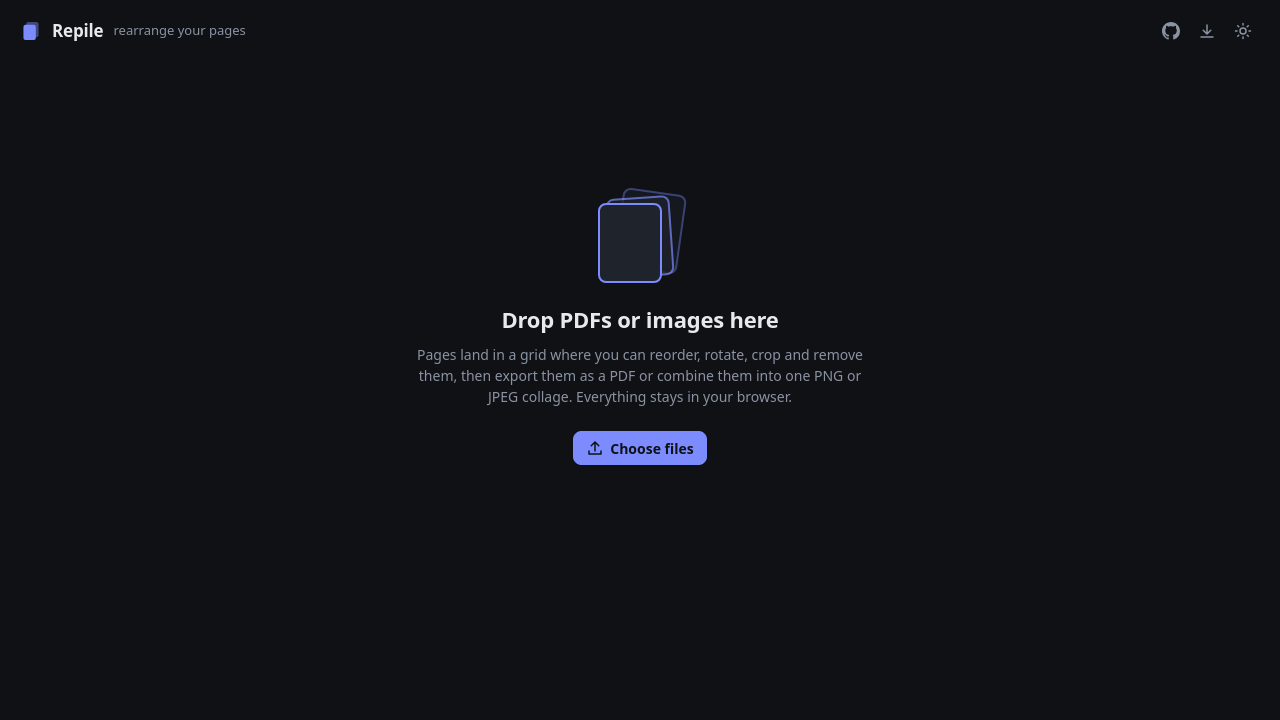
Test: theme › toggles to light mode and remembers the choice
Click the button named "switch to light mode" at (1243, 31), box [1226,14,1260,48]
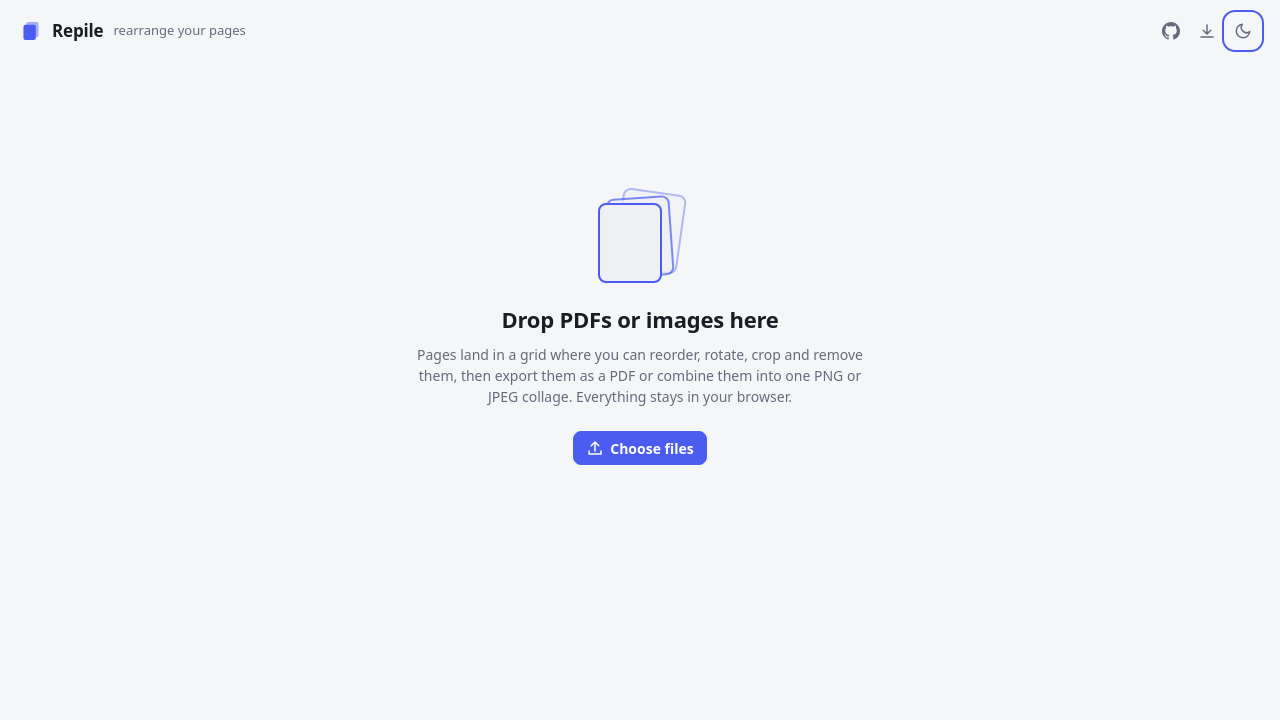
Result: the button named "switch to dark mode" is shown at [1226,14,1260,48]
